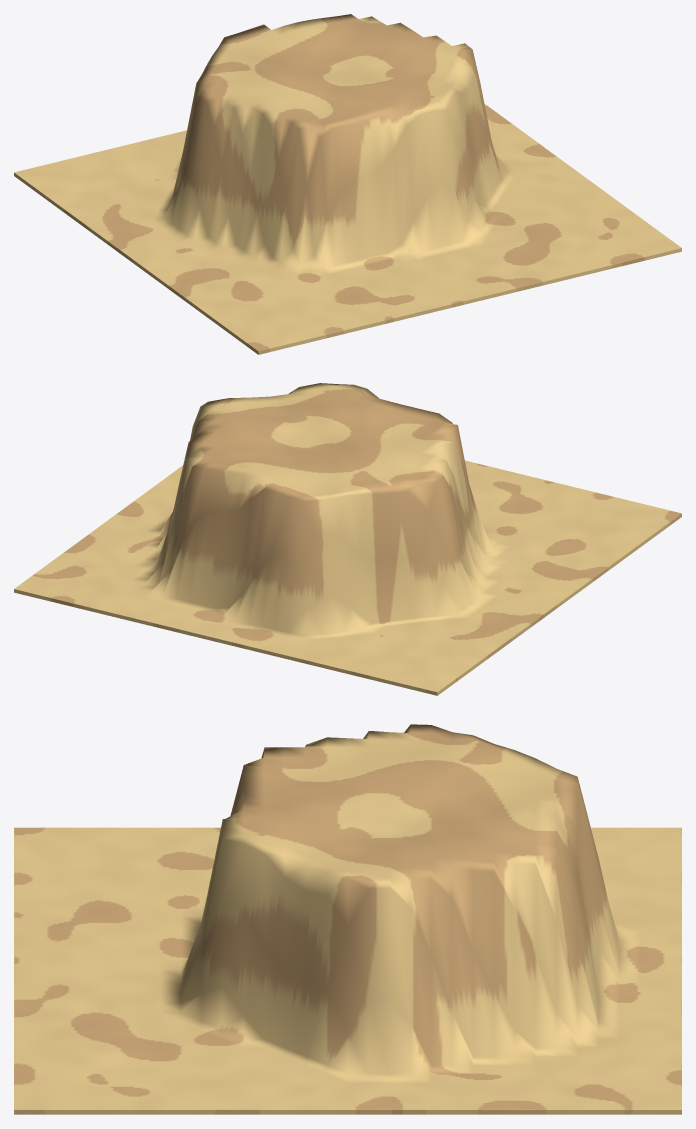
Rendered from Desert_Mountains_12.obj.
The picture shows the model from 3 angles, top to bottom: view 1: azimuth 30°, elevation 25°; view 2: azimuth 150°, elevation 25°; view 3: azimuth 270°, elevation 25°; orthographic projection. The views are drawn at different scales.
Size of the model in its own units: 10 by 2.92 by 10.
1 material, 1 textured.
